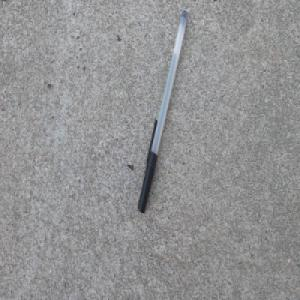Pen: (137, 7, 189, 214)
